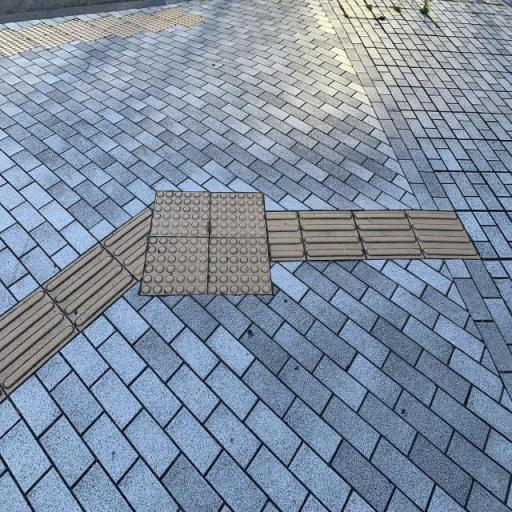dot: (140, 237, 208, 295), (208, 237, 270, 295), (148, 191, 209, 237), (209, 192, 268, 238)
line: (0, 288, 81, 397), (41, 243, 139, 331), (95, 208, 152, 280), (351, 209, 425, 260), (404, 209, 480, 258), (297, 209, 366, 260), (264, 211, 306, 261)
